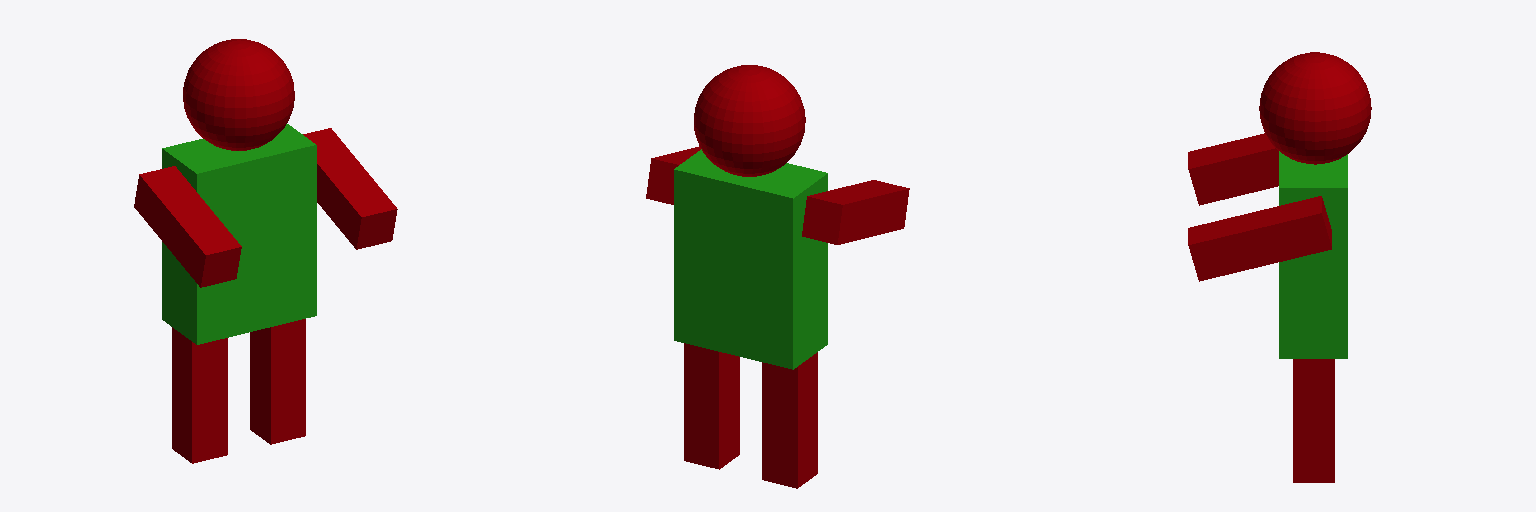
The model's file is enemigo2Boss.obj.
The picture shows the model from 3 angles: view 1: azimuth 30°, elevation 25°; view 2: azimuth 150°, elevation 25°; view 3: azimuth 270°, elevation 25°; orthographic projection.
Visible parts, largest first — view 1: Cube_Cube.003, Sphere.001, Cube.003_Cube.006, Cube.000, Cube.000_Cube.002, Cube.002_Cube.005; view 2: Cube_Cube.003, Sphere.001, Cube.000, Cube.000_Cube.002, Cube.003_Cube.006, Cube.002_Cube.005; view 3: Cube_Cube.003, Sphere.001, Cube.002_Cube.005, Cube.000_Cube.002, Cube.003_Cube.006.
Part boxes in pixels (x1,y1,x2,y2): Cube_Cube.003: (162, 124, 316, 344); Sphere.001: (183, 39, 294, 150); Cube.003_Cube.006: (134, 166, 241, 287); Cube.000: (172, 327, 227, 463); Cube.000_Cube.002: (250, 319, 305, 444); Cube.002_Cube.005: (303, 128, 397, 249); Cube_Cube.003: (674, 149, 827, 369); Sphere.001: (694, 65, 805, 176); Cube.000: (762, 352, 817, 488); Cube.000_Cube.002: (684, 343, 739, 469); Cube.003_Cube.006: (802, 180, 909, 244); Cube.002_Cube.005: (646, 146, 700, 204); Cube_Cube.003: (1279, 151, 1347, 358); Sphere.001: (1259, 52, 1371, 164); Cube.002_Cube.005: (1188, 196, 1331, 281); Cube.000_Cube.002: (1293, 359, 1334, 482); Cube.003_Cube.006: (1188, 133, 1278, 205).
Size of the model in its own units: 4.18 by 8.29 by 3.46.